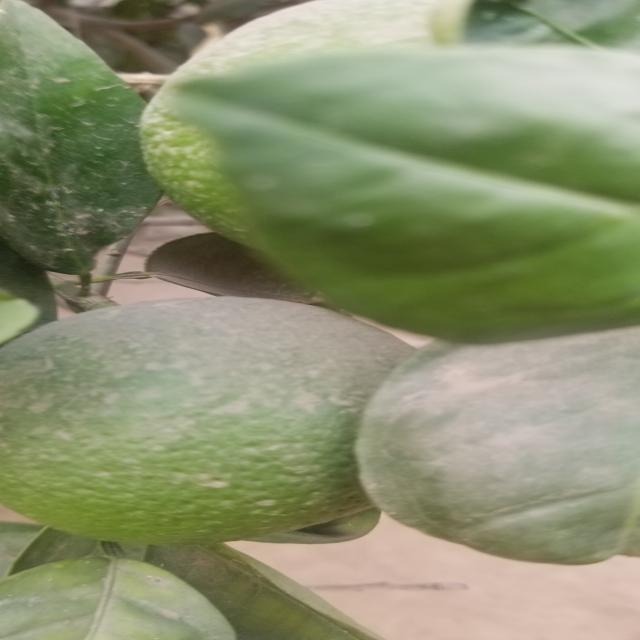Unripe: (19, 303, 405, 537), (167, 5, 519, 246)
